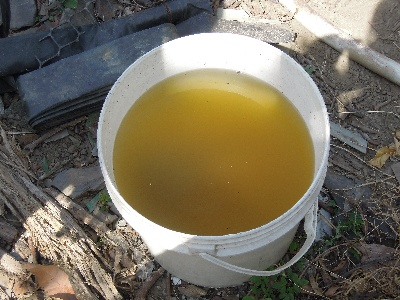bucket: (94, 29, 335, 290)
